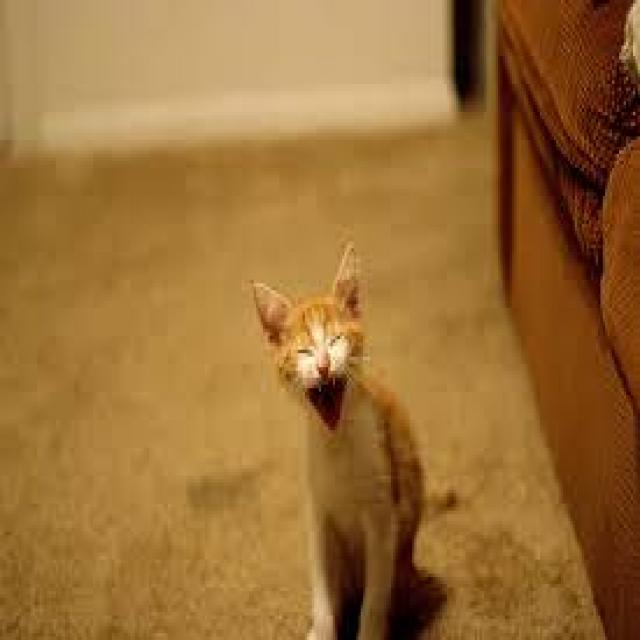Cat: (244, 234, 461, 640)
